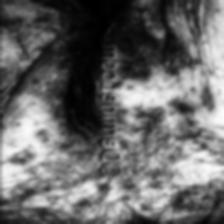Toxin: (171, 86, 224, 173), (104, 27, 160, 83), (163, 32, 191, 78)
